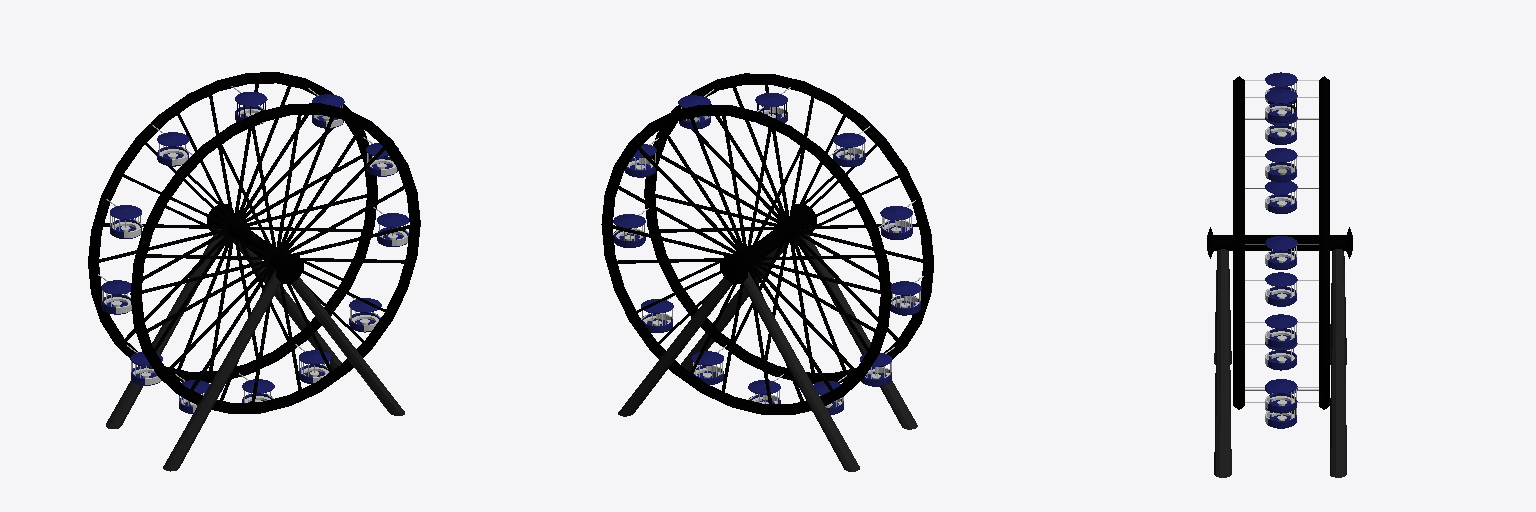
The model's file is rodaGigante.obj.
3 views of the same model, side by side, from view 1: azimuth 30°, elevation 25°; view 2: azimuth 150°, elevation 25°; view 3: azimuth 270°, elevation 25° (orthographic).
Visible parts, largest first — view 1: Torus, Cube.009_Cube.011, Torus.001_Torus.002, Cylinder.048_Cylinder.331, Cylinder.016_Cylinder.028, Cylinder.023_Cylinder.035, Cylinder.026_Cylinder.038, Cylinder.033_Cylinder.045, Cylinder.046_Cylinder.058; view 2: Torus, Cube.009_Cube.011, Torus.001_Torus.002, Cylinder.048_Cylinder.331, Cylinder.016_Cylinder.028, Cylinder.026_Cylinder.038, Cylinder.023_Cylinder.035, Cylinder.033_Cylinder.045, Cylinder.046_Cylinder.058, Cylinder.006_Cylinder.018; view 3: Torus, Torus.001_Torus.002, Cylinder.013_Cylinder.025, Cylinder.036_Cylinder.048, Cylinder.006_Cylinder.018, Cylinder.026_Cylinder.038, Cylinder.003_Cylinder.015, Cylinder.033_Cylinder.045, Cylinder.023_Cylinder.035.
Boxes of the visible parts, x1=… form: Torus: x1=88, y1=72, x2=420, y2=413; Cube.009_Cube.011: x1=99, y1=84, x2=412, y2=404; Torus.001_Torus.002: x1=106, y1=229, x2=404, y2=471; Cylinder.048_Cylinder.331: x1=157, y1=132, x2=189, y2=166; Cylinder.016_Cylinder.028: x1=110, y1=205, x2=141, y2=238; Cylinder.023_Cylinder.035: x1=101, y1=280, x2=131, y2=314; Cylinder.026_Cylinder.038: x1=377, y1=213, x2=408, y2=246; Cylinder.033_Cylinder.045: x1=349, y1=298, x2=381, y2=332; Cylinder.046_Cylinder.058: x1=299, y1=350, x2=330, y2=383; Torus: x1=601, y1=73, x2=933, y2=414; Cube.009_Cube.011: x1=611, y1=85, x2=922, y2=404; Torus.001_Torus.002: x1=618, y1=229, x2=917, y2=471; Cylinder.048_Cylinder.331: x1=833, y1=133, x2=865, y2=166; Cylinder.016_Cylinder.028: x1=880, y1=206, x2=912, y2=239; Cylinder.026_Cylinder.038: x1=613, y1=214, x2=645, y2=247; Cylinder.023_Cylinder.035: x1=890, y1=281, x2=921, y2=315; Cylinder.033_Cylinder.045: x1=641, y1=299, x2=673, y2=332; Cylinder.046_Cylinder.058: x1=691, y1=351, x2=723, y2=384; Cylinder.006_Cylinder.018: x1=678, y1=95, x2=710, y2=129; Torus: x1=1207, y1=76, x2=1352, y2=409; Torus.001_Torus.002: x1=1214, y1=249, x2=1346, y2=477; Cylinder.013_Cylinder.025: x1=1265, y1=236, x2=1297, y2=269; Cylinder.036_Cylinder.048: x1=1265, y1=272, x2=1297, y2=306; Cylinder.006_Cylinder.018: x1=1265, y1=148, x2=1297, y2=181; Cylinder.026_Cylinder.038: x1=1265, y1=314, x2=1297, y2=348; Cylinder.003_Cylinder.015: x1=1265, y1=89, x2=1297, y2=122; Cylinder.033_Cylinder.045: x1=1265, y1=379, x2=1297, y2=413; Cylinder.023_Cylinder.035: x1=1265, y1=181, x2=1297, y2=213.
Bounding box in the file's own units: 21.74 × 22.32 × 9.01.